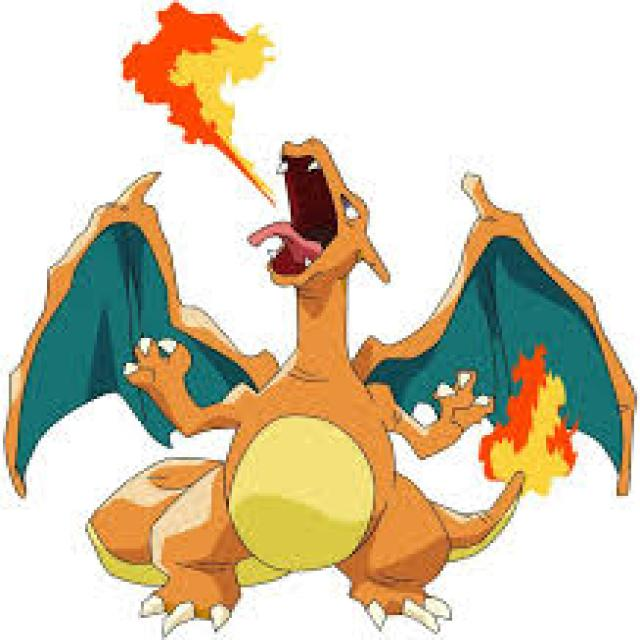charizard: (1, 3, 640, 637)
